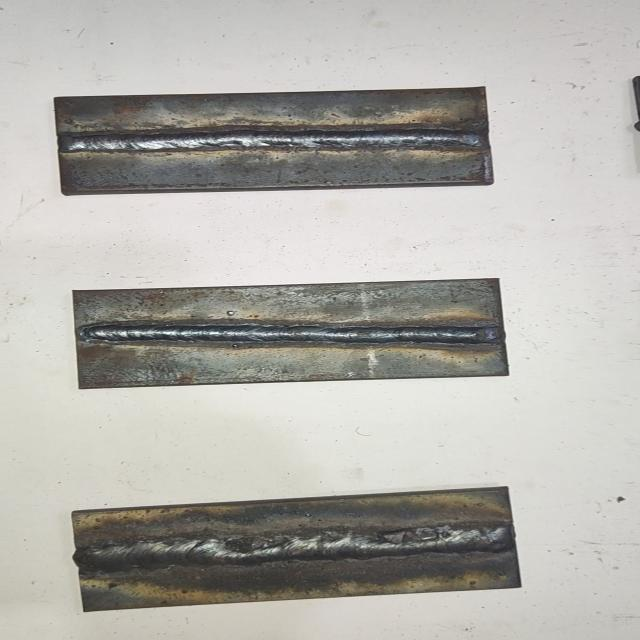Bad Weld: (81, 523, 517, 571)
Defect: (212, 526, 307, 558), (369, 522, 484, 546)
Good Weld: (66, 128, 486, 154), (82, 322, 502, 346)
